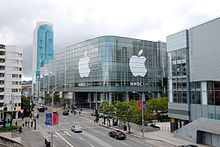apple: (126, 47, 150, 79), (72, 50, 96, 78)
